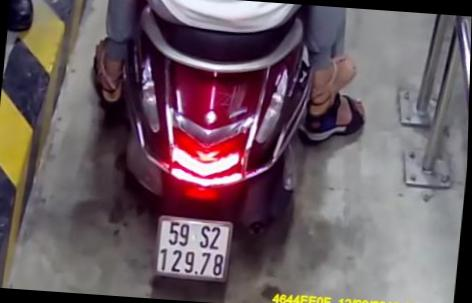LP: (151, 212, 238, 288)
